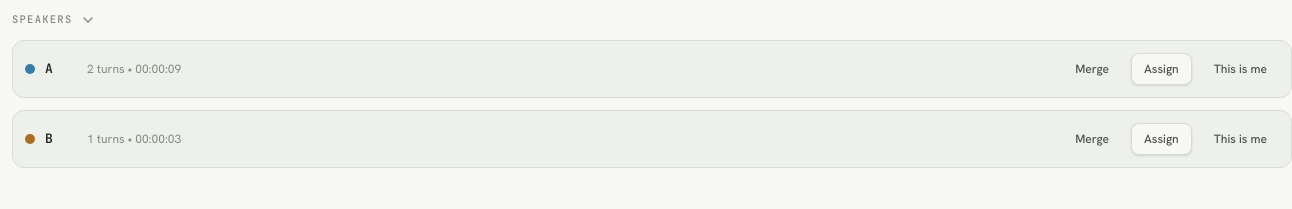
it: SpeakersPanel (AC2/AC3) › Phase 2B suggestion chips › self-enroll with no self contact shows a hint instead of assigning
Click the button with aria-label "this label is me: a": point(1240, 69) [1202,53,1279,85]
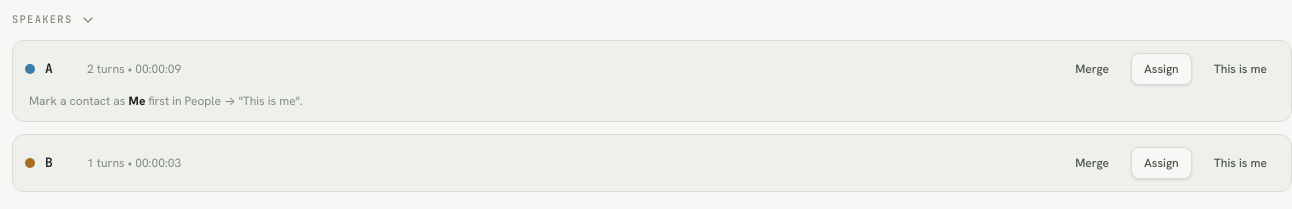
Now the element with test id "self-hint" is shown, box [29,93,303,109]
